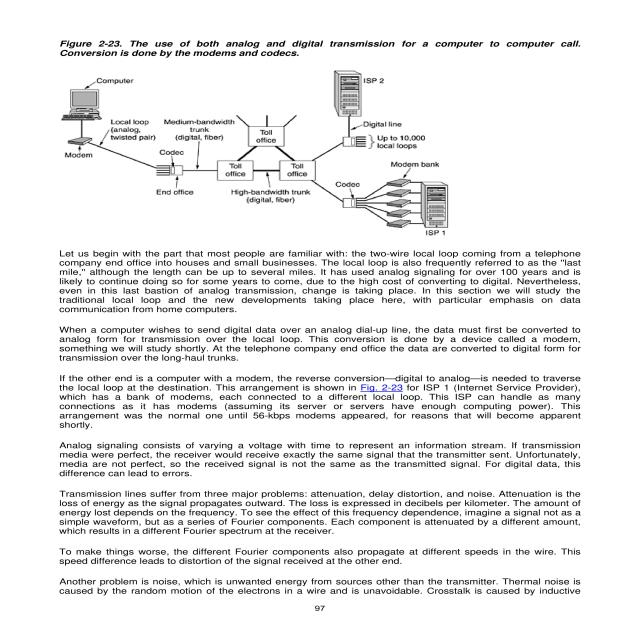diagram: (39, 35, 604, 242)
